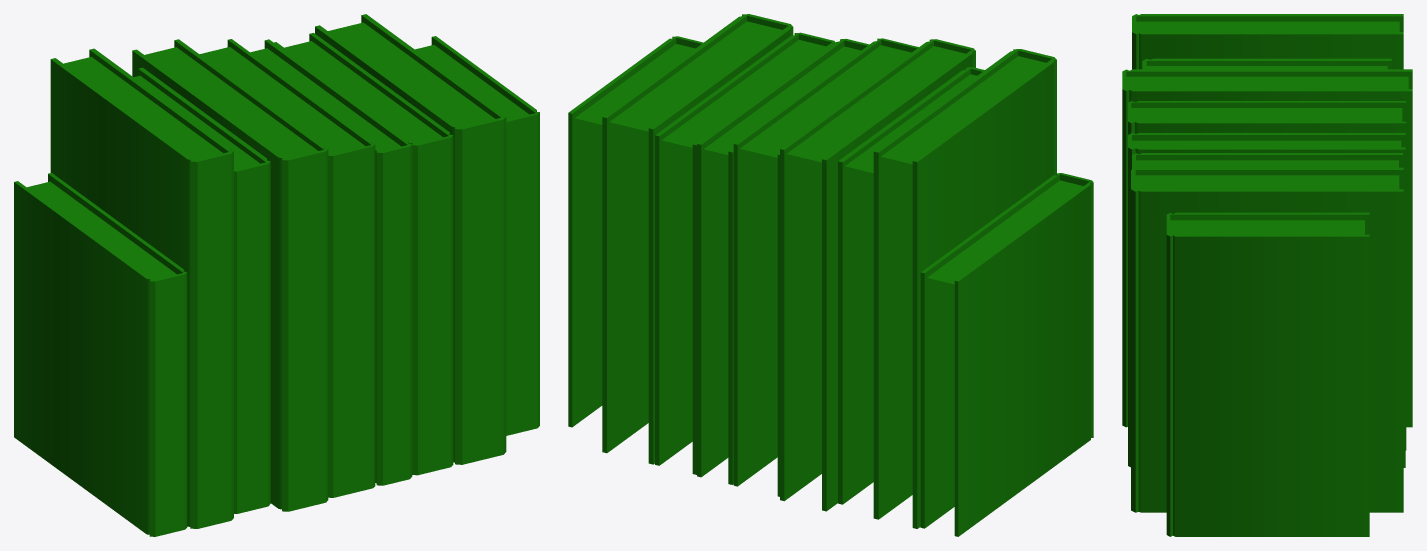
Rendered from HalloweenRoomA_BooksG.fbx.
The picture shows the model from 3 angles, left to right: view 1: azimuth 30°, elevation 25°; view 2: azimuth 150°, elevation 25°; view 3: azimuth 270°, elevation 25°; orthographic projection. The views are drawn at different scales.
Visible parts, largest first — view 1: HalloweenRoomA_BooksG; view 2: HalloweenRoomA_BooksG; view 3: HalloweenRoomA_BooksG.
Boxes of the visible parts, box(x1,y1,x2,y2) form: HalloweenRoomA_BooksG: box(14, 14, 539, 536); HalloweenRoomA_BooksG: box(568, 14, 1093, 536); HalloweenRoomA_BooksG: box(1122, 14, 1412, 536).
Size of the model in its own units: 31.74 by 27.43 by 20.54.
